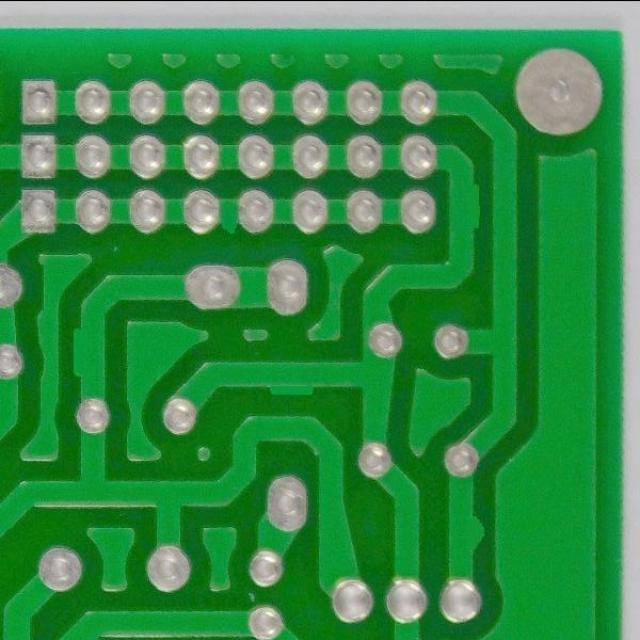Spur: (64, 319, 117, 388), (438, 175, 489, 241), (438, 504, 494, 564), (260, 353, 326, 403), (217, 193, 242, 241)
